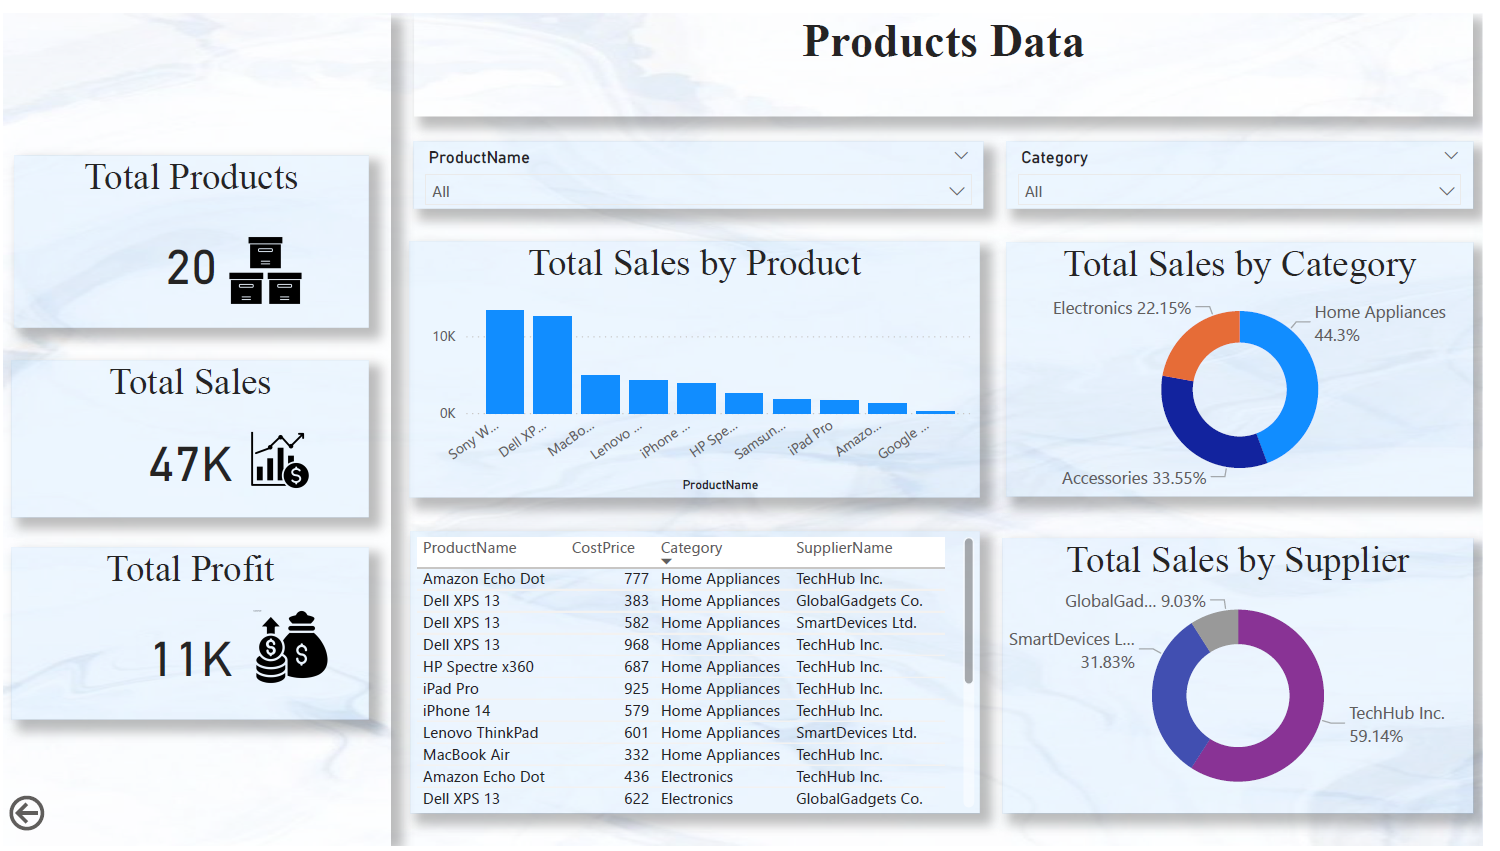

The page's visual inventory and layout, read from the dashboard file:
{"tool":"powerbi","page":{"name":"Products Data","canvas":[1280,720],"ordinal":3},"visuals":[{"type":"shape","box":[0,0,336.2,720.3],"z":0},{"type":"card","title":"Total Sales","fields":{"Values":["Transactions.TotalSales"]},"box":[6.8,300,308.9,135.7],"z":1000},{"type":"image","box":[160.9,353.6,156.5,65.2],"z":2000},{"type":"card","title":"Total Profit","fields":{"Values":["Sum(Transactions.Profit)"]},"box":[6.8,462.5,308.9,148.2],"z":3000},{"type":"image","box":[194.2,508.7,171,79.7],"z":4000},{"type":"card","title":"Total Products","fields":{"Values":["CountNonNull(Products.ProductName)"]},"box":[8.7,123.2,307.2,149.3],"z":5000},{"type":"textbox","title":"Products Data","box":[355.4,0,916.9,89.2],"z":6000},{"type":"image","box":[174.3,184.3,105.7,75.7],"z":7000},{"type":"columnChart","title":"Total Sales by Product","fields":{"Category":["Products.ProductName"],"Y":["Transactions.TotalSales"]},"box":[350.7,197.3,494.7,221.3],"z":8000},{"type":"donutChart","title":"Total Sales by Category","fields":{"Category":["Products.Category"],"Y":["Transactions.TotalSales"]},"box":[867.7,198.5,404.6,220],"z":9000},{"type":"donutChart","title":"Total Sales by Supplier","fields":{"Category":["Suppliers (2).SupplierName"],"Y":["Transactions.TotalSales"]},"box":[864.6,453.8,407.7,238.5],"z":10000},{"type":"tableEx","fields":{"Values":["Products.ProductName","Sum(Products.CostPrice)","Products.Category","Suppliers (2).SupplierName"]},"box":[352,448,493.3,244],"z":11000},{"type":"slicer","fields":{"Values":["Products.ProductName"]},"box":[354.9,111.3,493,57.7],"z":12000},{"type":"slicer","fields":{"Values":["Products.Category"]},"box":[867.7,110.8,404.6,58.5],"z":13000},{"type":"actionButton","box":[0,672.1,100,39.7],"z":14000}]}

Visuals, with their boxes in screenshot pixels (x1, y1, x2, y2), scaled from the page's 1280x720 canvas onto the 1500x851 screenshot:
shape: pyautogui.locateOnScreen(0, 0, 394, 850)
"Total Sales" card: pyautogui.locateOnScreen(8, 355, 370, 515)
image: pyautogui.locateOnScreen(189, 418, 372, 495)
"Total Profit" card: pyautogui.locateOnScreen(8, 547, 370, 722)
image: pyautogui.locateOnScreen(228, 601, 428, 695)
"Total Products" card: pyautogui.locateOnScreen(10, 146, 370, 322)
"Products Data" textbox: pyautogui.locateOnScreen(416, 0, 1491, 105)
image: pyautogui.locateOnScreen(204, 218, 328, 307)
"Total Sales by Product" columnChart: pyautogui.locateOnScreen(411, 233, 991, 495)
"Total Sales by Category" donutChart: pyautogui.locateOnScreen(1017, 235, 1491, 495)
"Total Sales by Supplier" donutChart: pyautogui.locateOnScreen(1013, 536, 1491, 818)
tableEx - Products.ProductName x Sum(Products.CostPrice): pyautogui.locateOnScreen(412, 530, 991, 818)
slicer - Products.ProductName: pyautogui.locateOnScreen(416, 132, 994, 200)
slicer - Products.Category: pyautogui.locateOnScreen(1017, 131, 1491, 200)
actionButton: pyautogui.locateOnScreen(0, 794, 117, 841)
